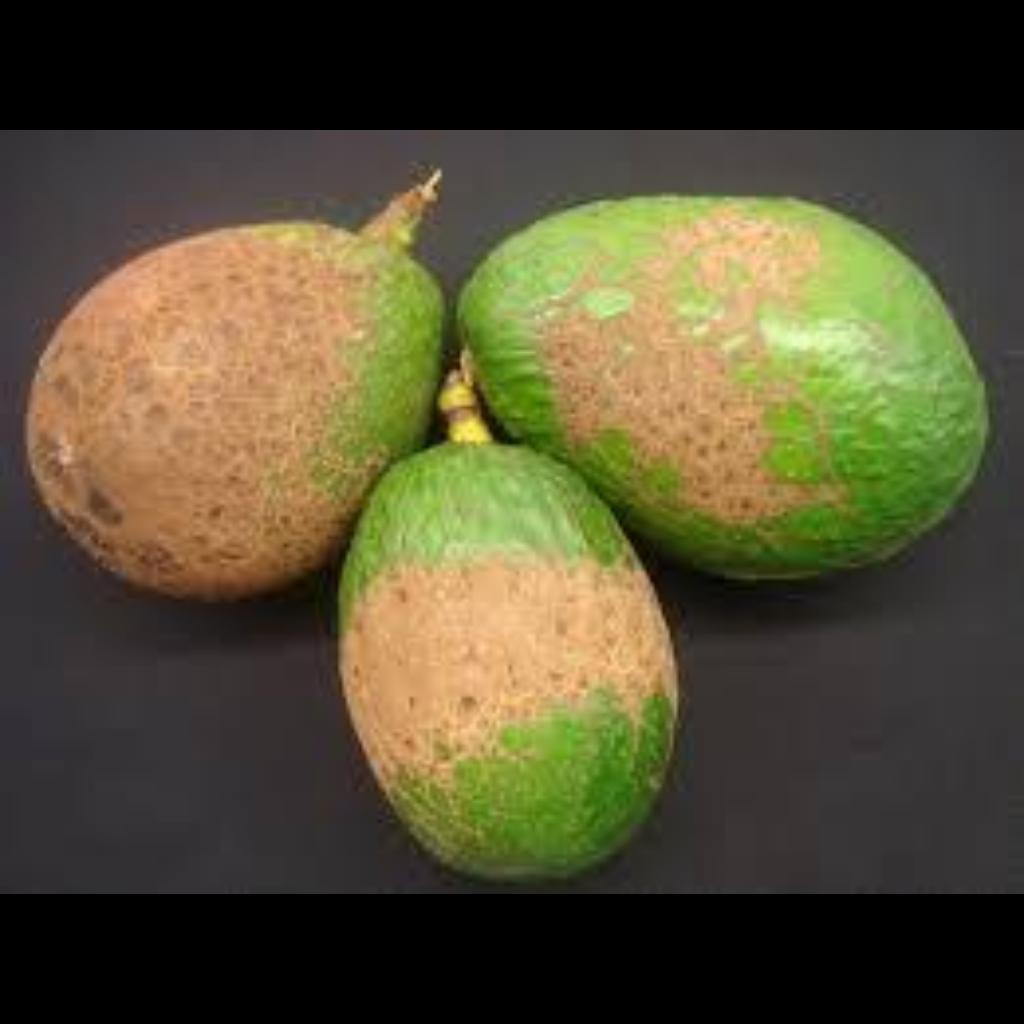cercospora_spot: (512, 166, 926, 508), (34, 191, 368, 565), (400, 428, 668, 848)
